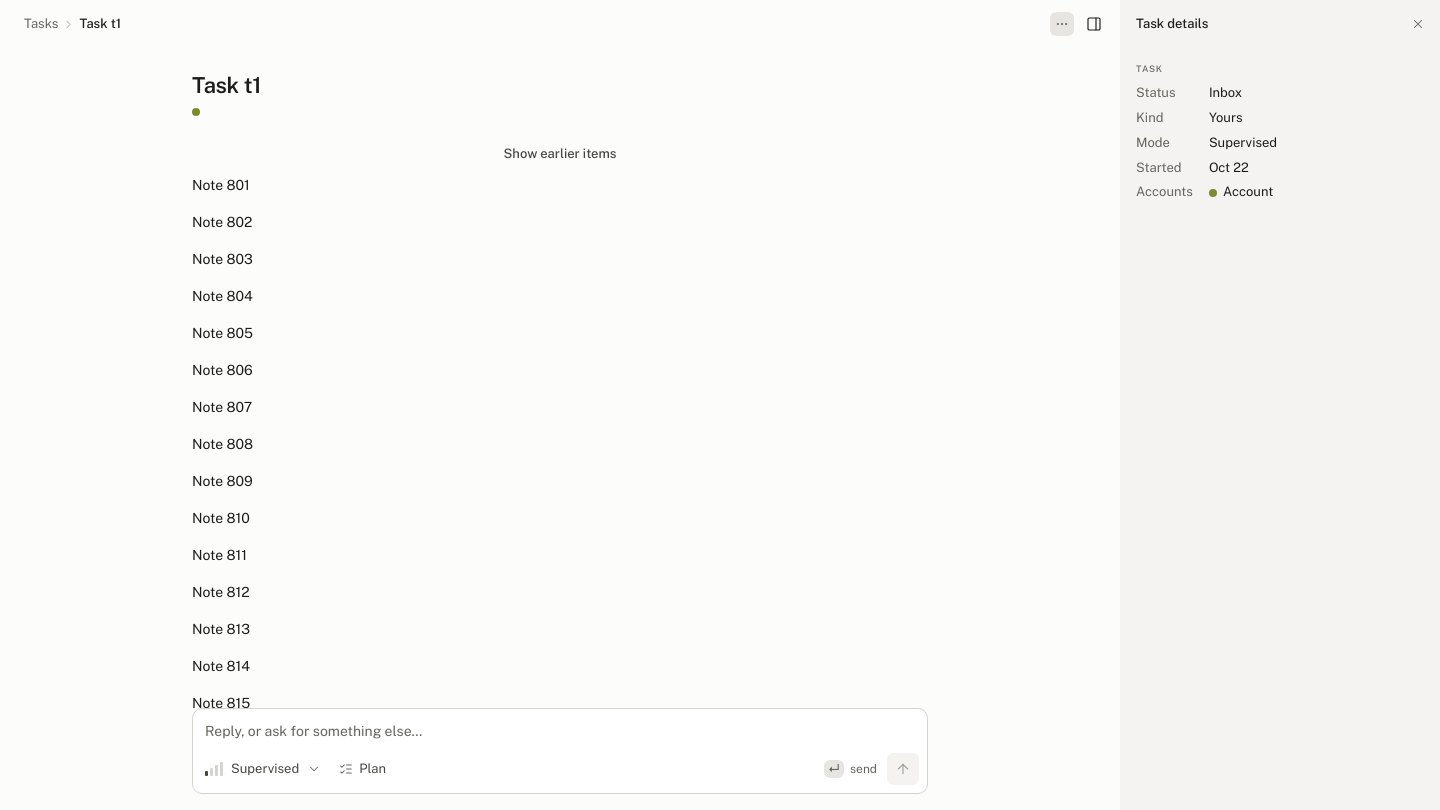
Test: R5-5 long histories › R5-5: opens at the newest items and pages older ones on request
Click the button "Show earlier items" at (560, 153), box [504, 144, 616, 163]
(page scrolled)
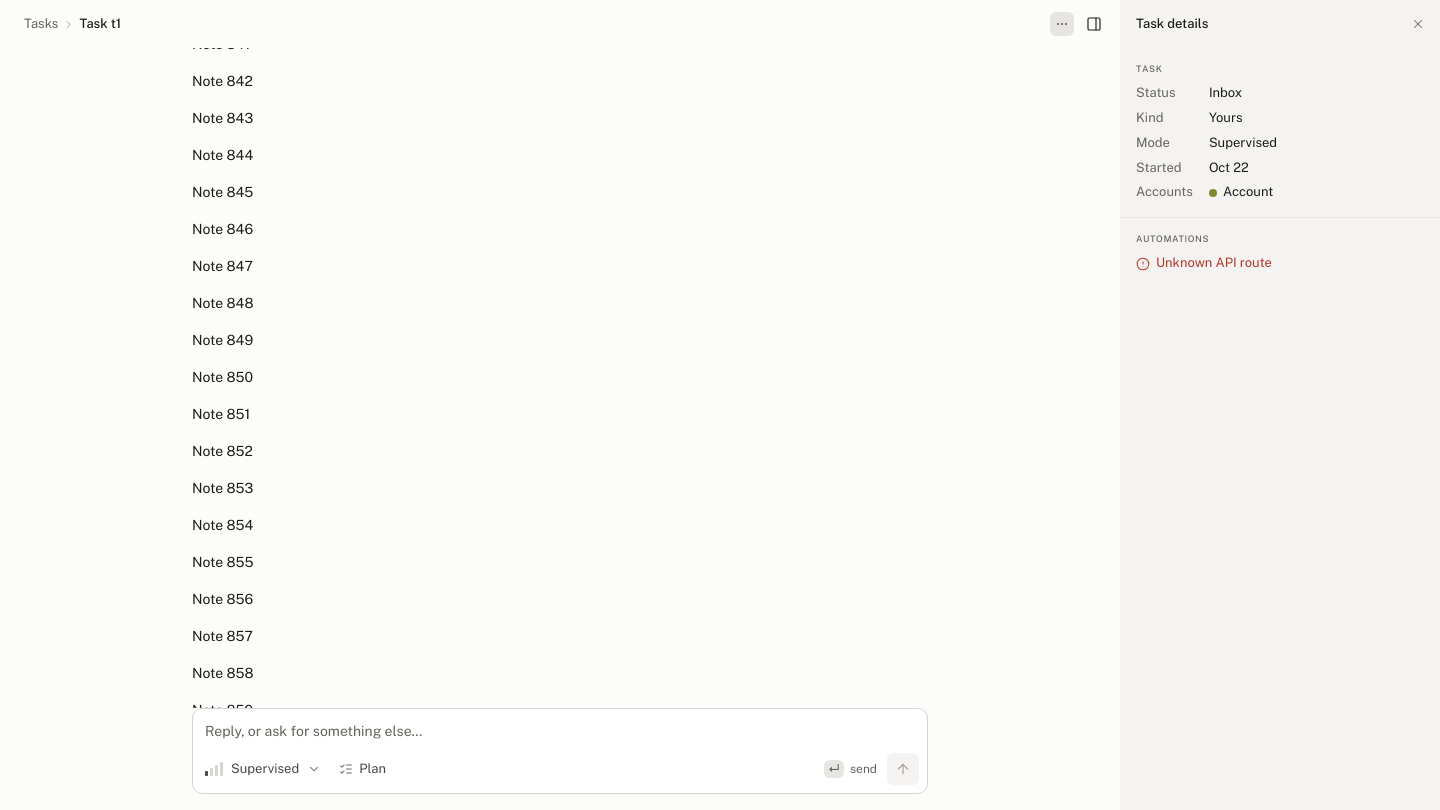
Check: the text "Note 850" is shown, box [192, 369, 253, 385]
